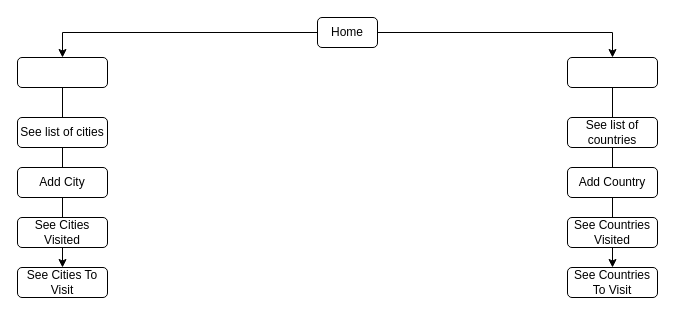
This 675x315 diagram has some shape labels left out. The shapes that lost their labels are listed below. From the top down, each one's centre as x and y in pixels, then its label:
point (62, 72): Cities
point (612, 72): Countries
